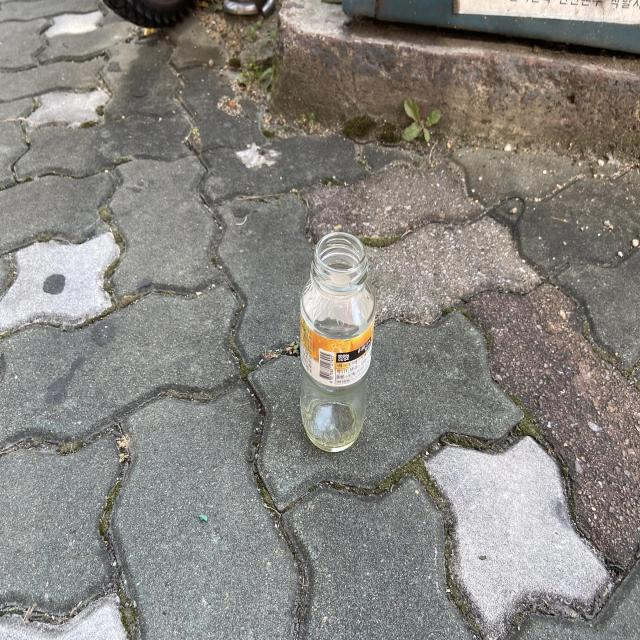glass: (300, 232, 376, 451)
